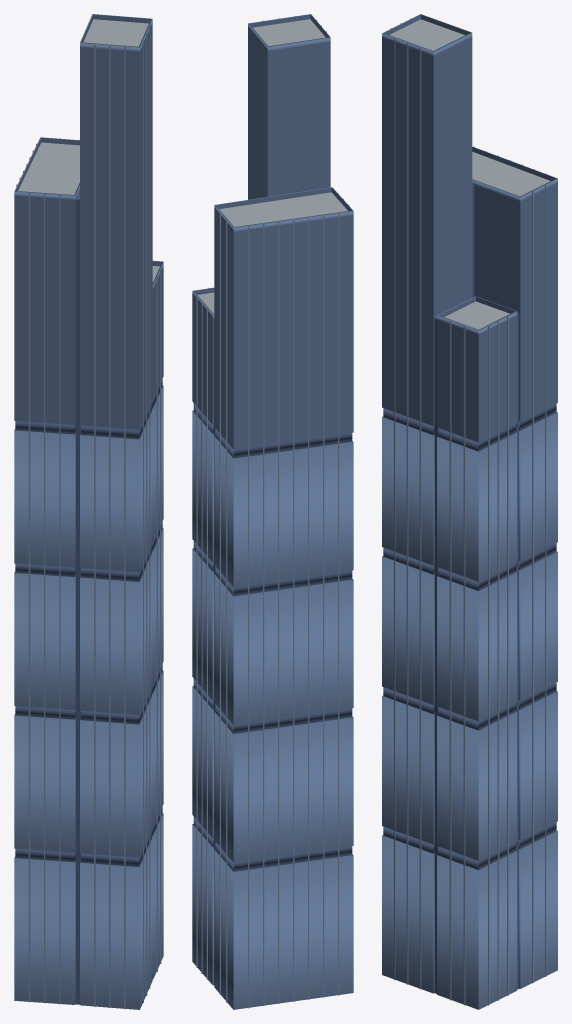
File: nanjing-financial-city-c1.glb
The picture shows the model from 3 angles, left to right: view 1: azimuth 30°, elevation 25°; view 2: azimuth 150°, elevation 25°; view 3: azimuth 270°, elevation 25°; orthographic projection. The views are drawn at different scales.
Parts seen in each view (by area): view 1: Nanjing Financial City C1; view 2: Nanjing Financial City C1; view 3: Nanjing Financial City C1.
Boxes of the visible parts, left/top/right/bottom form: Nanjing Financial City C1: left=14, top=14, right=163, bottom=1009; Nanjing Financial City C1: left=192, top=14, right=353, bottom=1009; Nanjing Financial City C1: left=382, top=14, right=557, bottom=1009.
Size of the model in its own units: 71.93 by 419 by 70.78.
